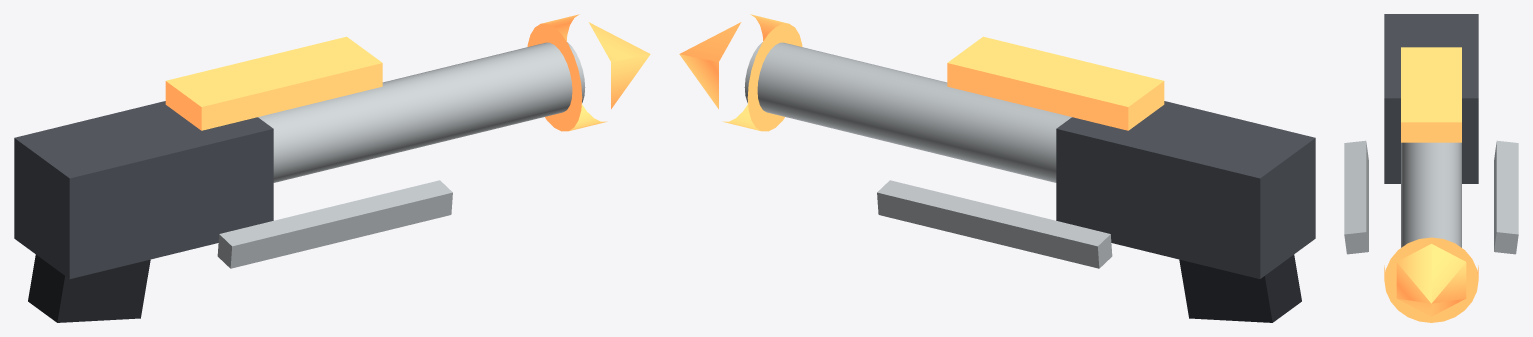
Rendered from shard-cannon-g.glb.
3 views of the same model, side by side, from view 1: azimuth 30°, elevation 25°; view 2: azimuth 150°, elevation 25°; view 3: azimuth 270°, elevation 25° (orthographic). The views are drawn at different scales.
Visible parts, largest first — view 1: shard-cannon-g free asset preview part 3, shard-cannon-g free asset preview part 1, shard-cannon-g free asset preview part 5, shard-cannon-g free asset preview part 6, shard-cannon-g free asset preview part 4, shard-cannon-g free asset preview part 2, shard-cannon-g free asset preview part 8; view 2: shard-cannon-g free asset preview part 3, shard-cannon-g free asset preview part 1, shard-cannon-g free asset preview part 5, shard-cannon-g free asset preview part 7, shard-cannon-g free asset preview part 4, shard-cannon-g free asset preview part 2, shard-cannon-g free asset preview part 8; view 3: shard-cannon-g free asset preview part 3, shard-cannon-g free asset preview part 1, shard-cannon-g free asset preview part 5, shard-cannon-g free asset preview part 8, shard-cannon-g free asset preview part 6, shard-cannon-g free asset preview part 7, shard-cannon-g free asset preview part 2.
Part boxes in pixels (x1,y1,x2,y2): shard-cannon-g free asset preview part 3: (14, 101, 273, 278); shard-cannon-g free asset preview part 1: (258, 42, 585, 182); shard-cannon-g free asset preview part 5: (165, 36, 382, 130); shard-cannon-g free asset preview part 6: (217, 180, 452, 268); shard-cannon-g free asset preview part 4: (28, 254, 150, 322); shard-cannon-g free asset preview part 2: (527, 14, 607, 131); shard-cannon-g free asset preview part 8: (588, 22, 650, 109); shard-cannon-g free asset preview part 3: (1056, 101, 1315, 278); shard-cannon-g free asset preview part 1: (744, 42, 1071, 182); shard-cannon-g free asset preview part 5: (947, 36, 1164, 130); shard-cannon-g free asset preview part 7: (877, 180, 1112, 268); shard-cannon-g free asset preview part 4: (1179, 254, 1301, 322); shard-cannon-g free asset preview part 2: (722, 14, 802, 131); shard-cannon-g free asset preview part 8: (679, 22, 741, 109); shard-cannon-g free asset preview part 3: (1384, 14, 1478, 183); shard-cannon-g free asset preview part 1: (1401, 142, 1461, 247); shard-cannon-g free asset preview part 5: (1401, 47, 1461, 142); shard-cannon-g free asset preview part 8: (1396, 244, 1466, 316); shard-cannon-g free asset preview part 6: (1344, 140, 1368, 254); shard-cannon-g free asset preview part 7: (1494, 140, 1518, 254); shard-cannon-g free asset preview part 2: (1384, 237, 1478, 322).
Bounding box in the file's own units: 2.15 × 0.6741 × 0.629.
